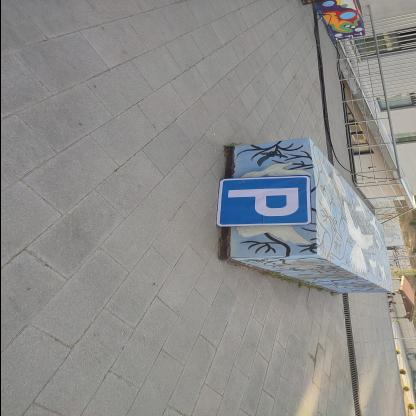Parking-Sign: (217, 176, 311, 228)
